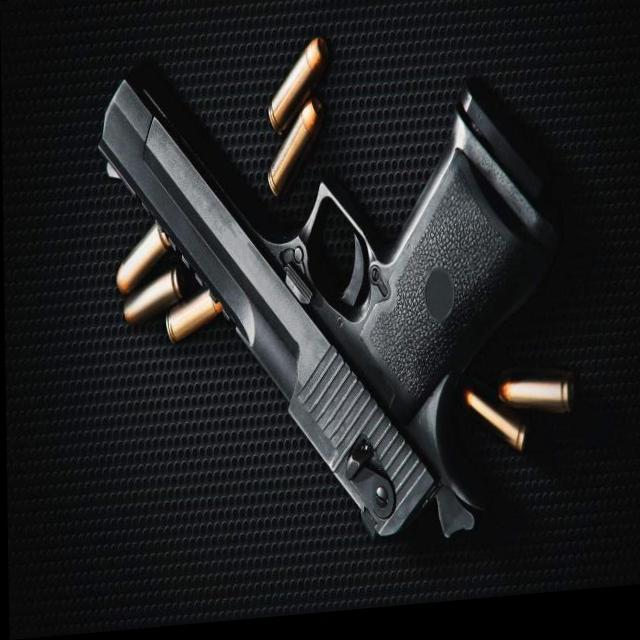handgun: (97, 46, 561, 563)
